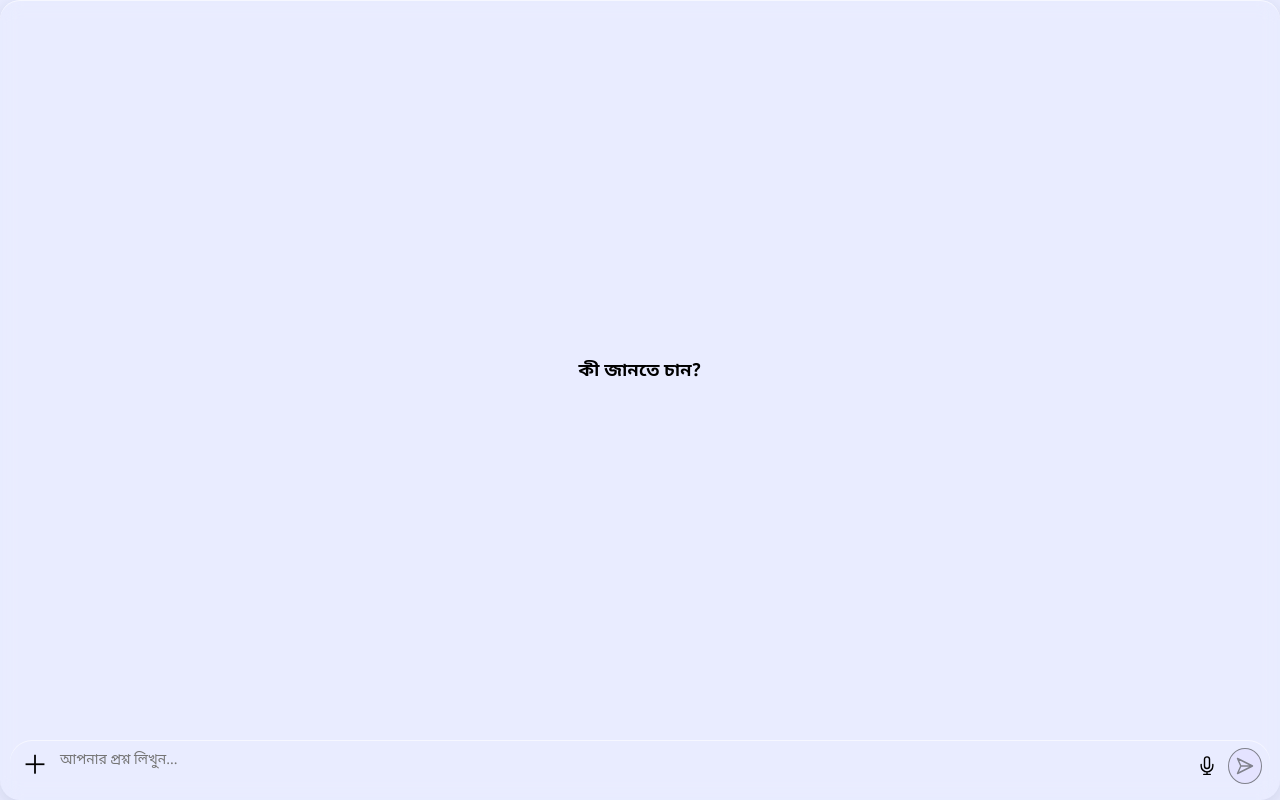
Test: never reads another account chart
Type "hello" into the text box at (621, 765), box [56,746,1186,784]
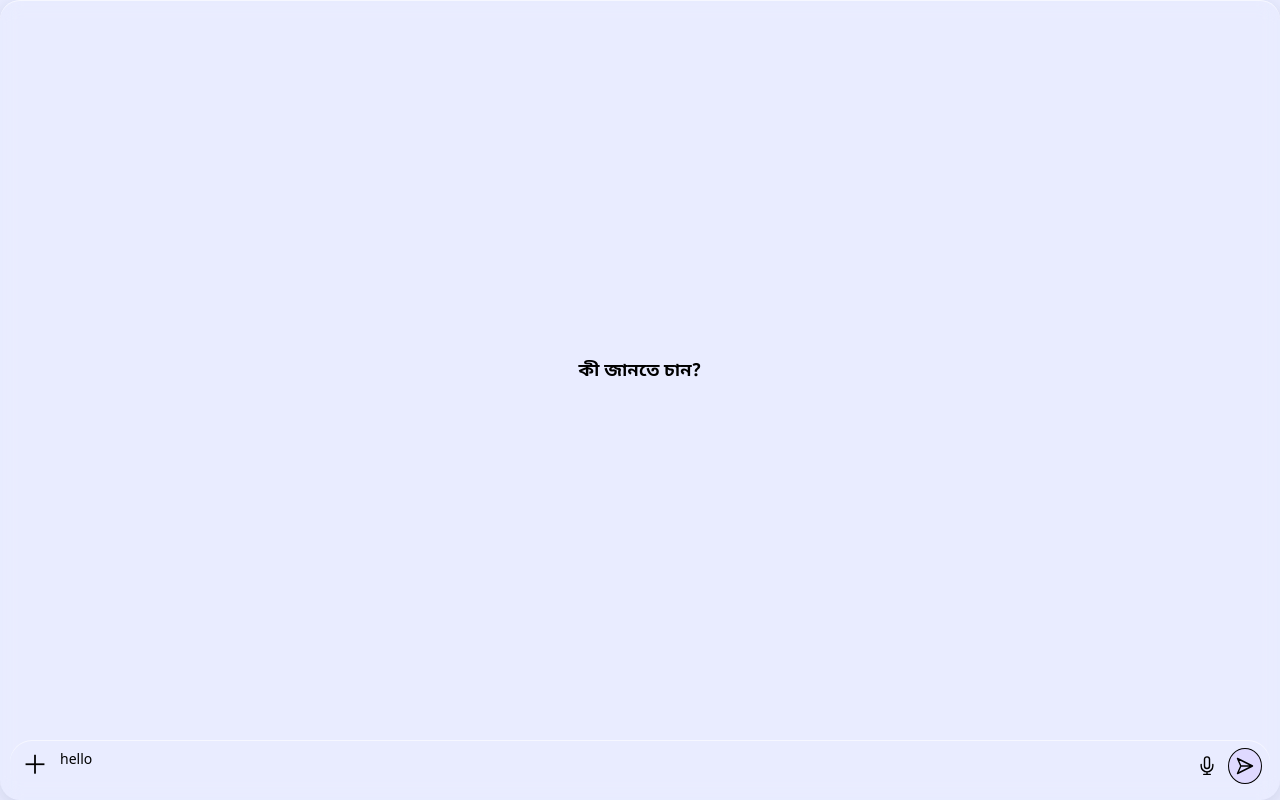
Click the button named "পাঠান" at (1245, 766), box [1228,748,1262,784]
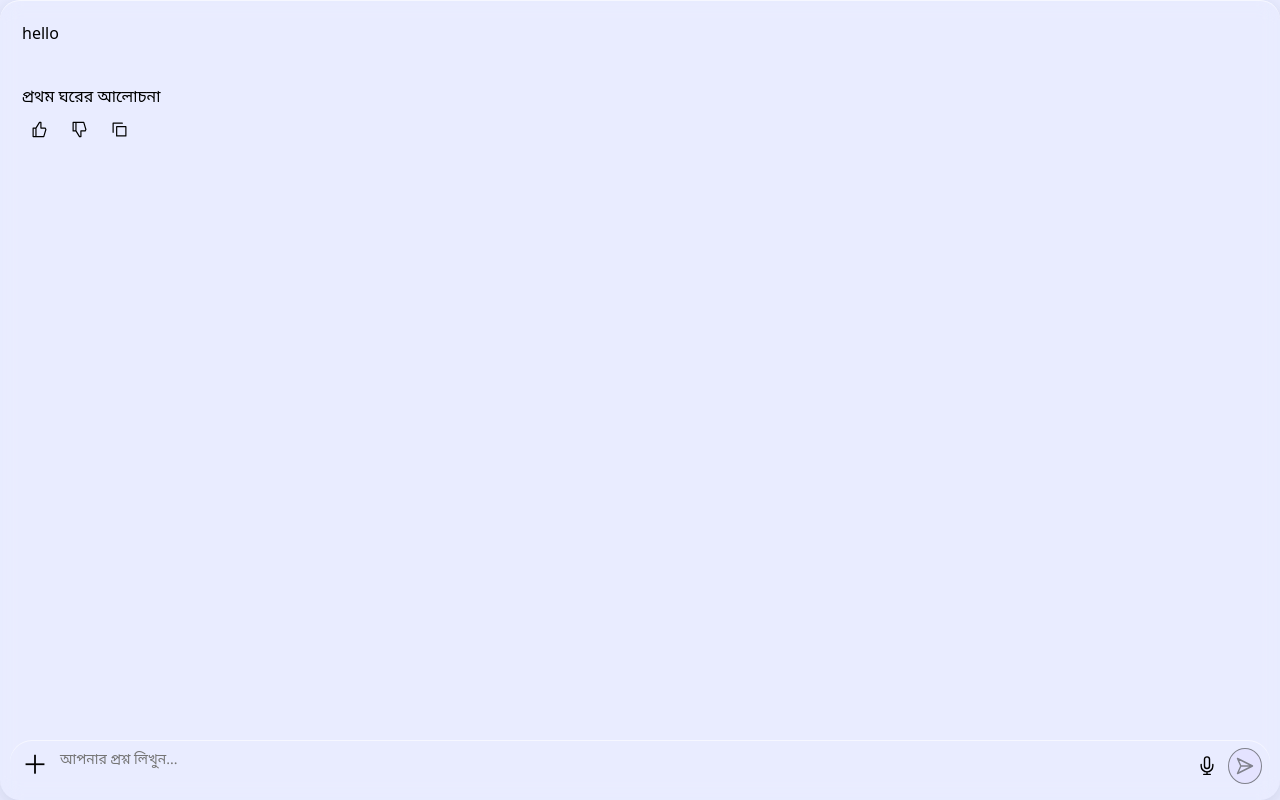
expect the text "প্রথম ঘরের আলোচনা" is shown: met, box [22,87,160,109]
